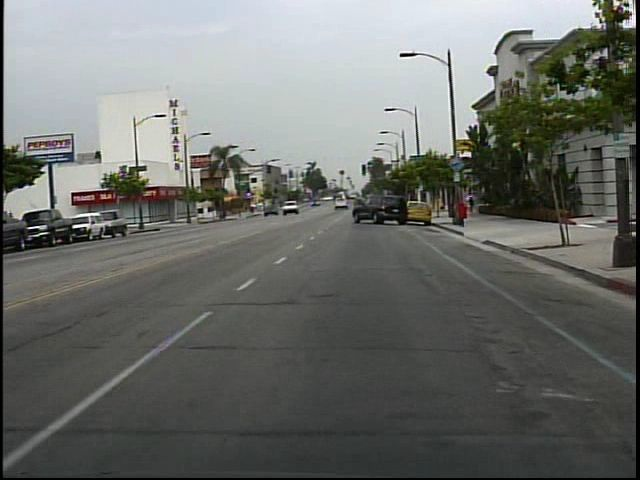person: (466, 187, 480, 218)
